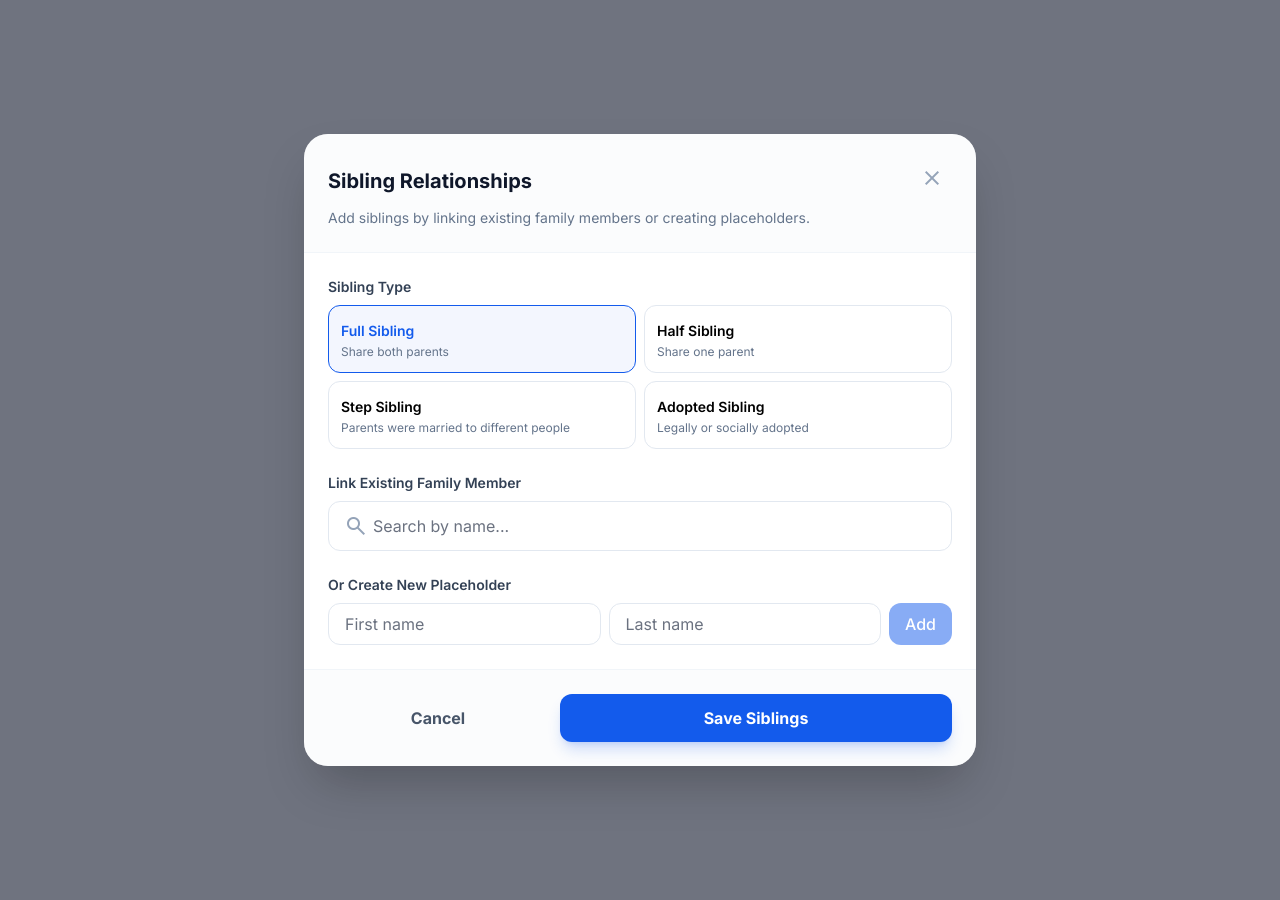
Scenario: RelationshipWizard › should create new placeholder sibling
This screenshot has width=1280, height=900.
In the field with placeholder "First name": [464, 624] box [328,603,600,645], type "John"
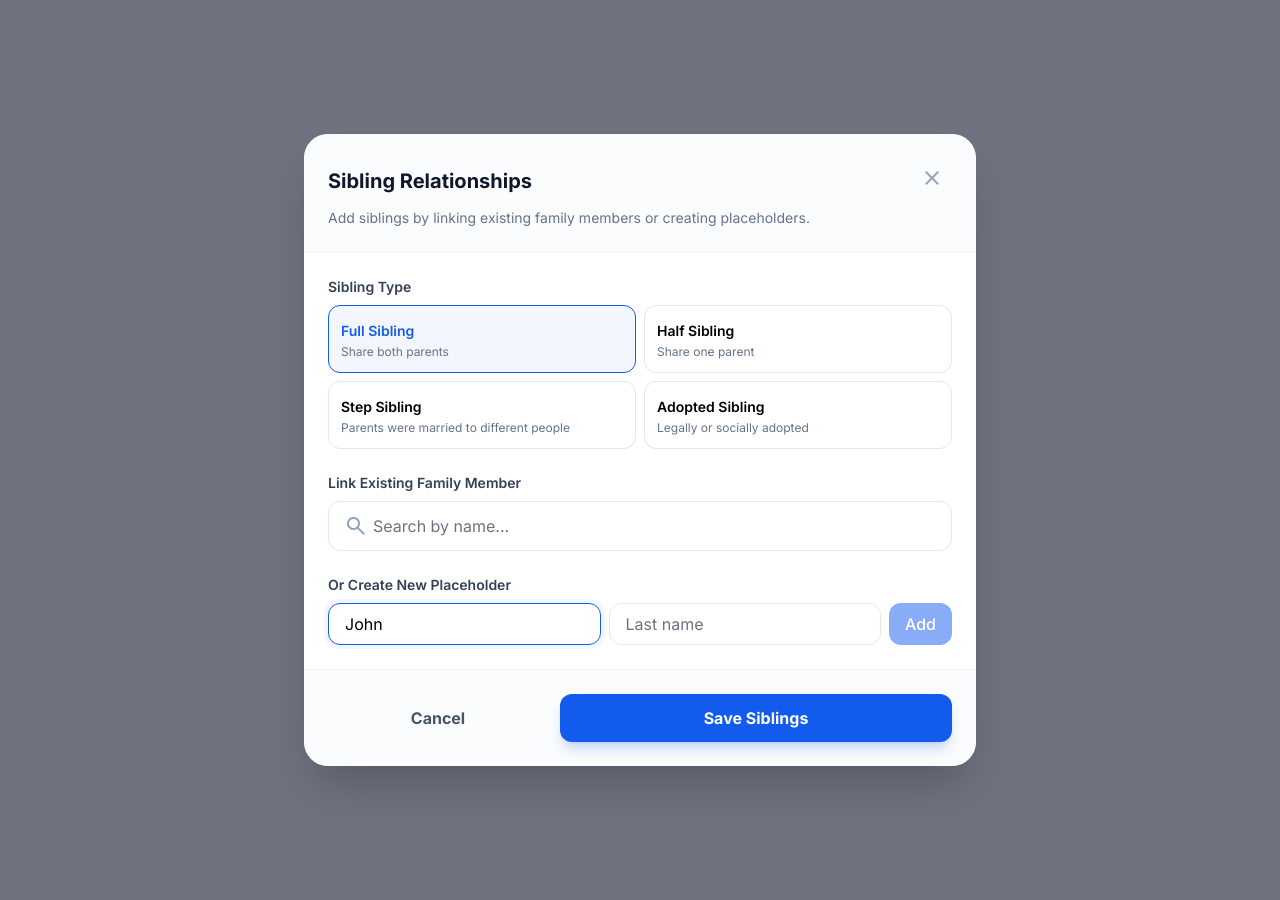
In the field with placeholder "Last name": [745, 624] box [608,603,881,645], type "Smith"
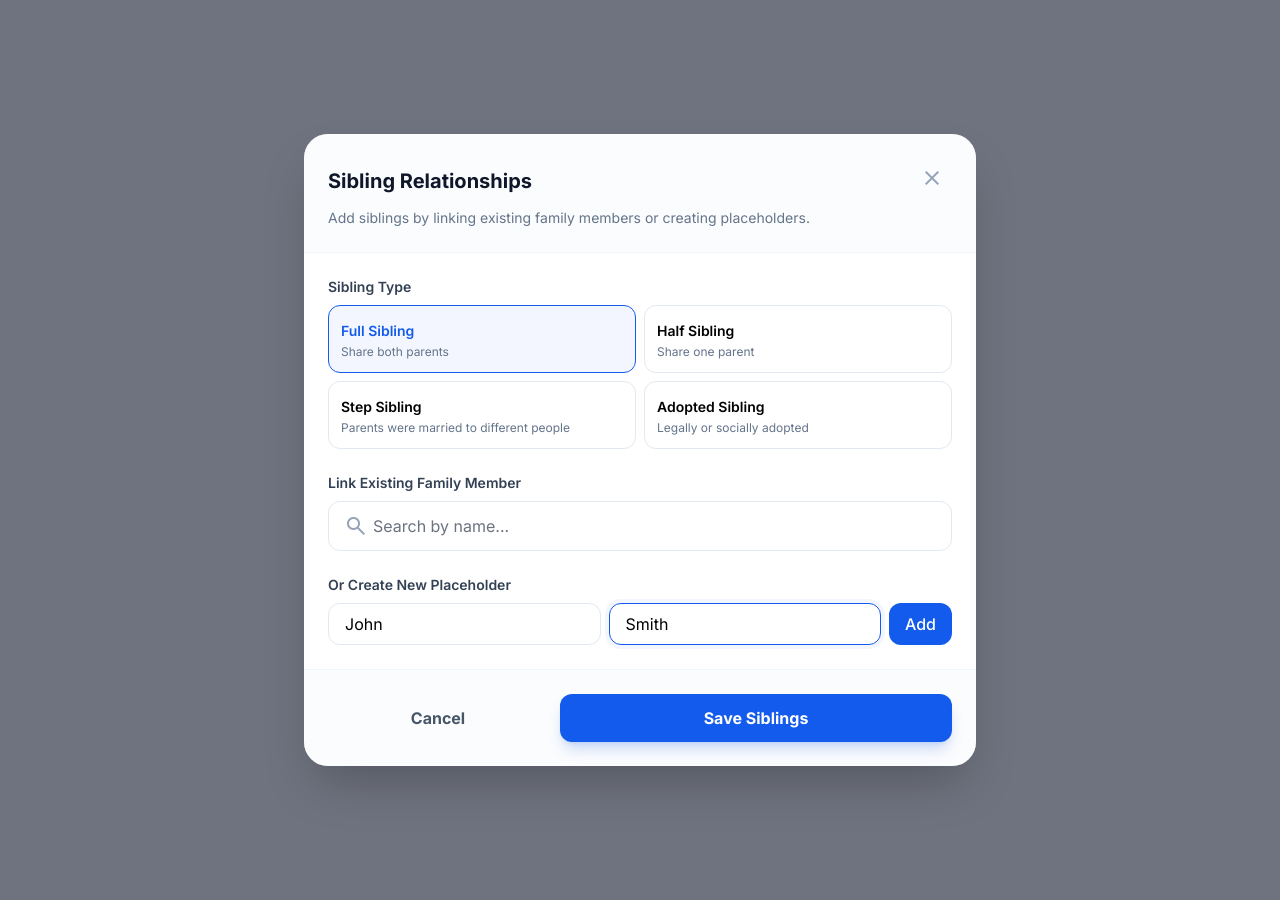
Click the button "Add": [920, 624] box [889,603,952,645]
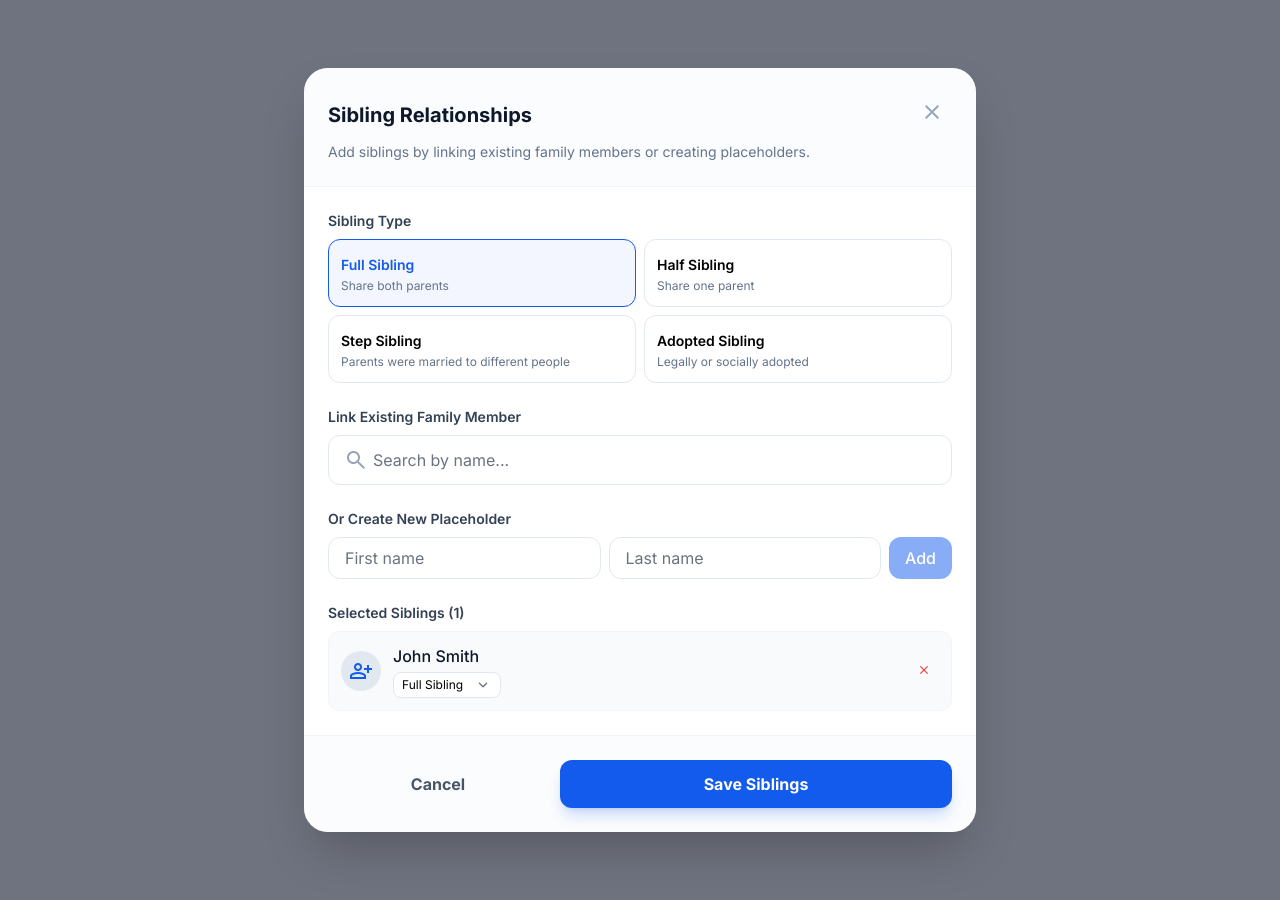
Expected: the text "John Smith" is shown, [393,646,479,666]
